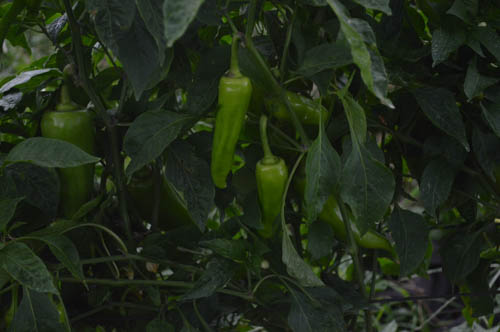ChiliPepper: (300, 171, 394, 254), (38, 111, 97, 210), (213, 77, 248, 193), (132, 179, 194, 237), (268, 88, 328, 126), (256, 163, 288, 217)
